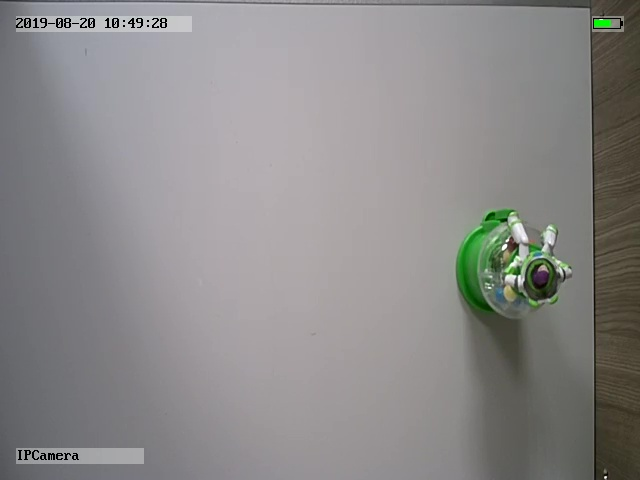buzz: (454, 206, 574, 324)
